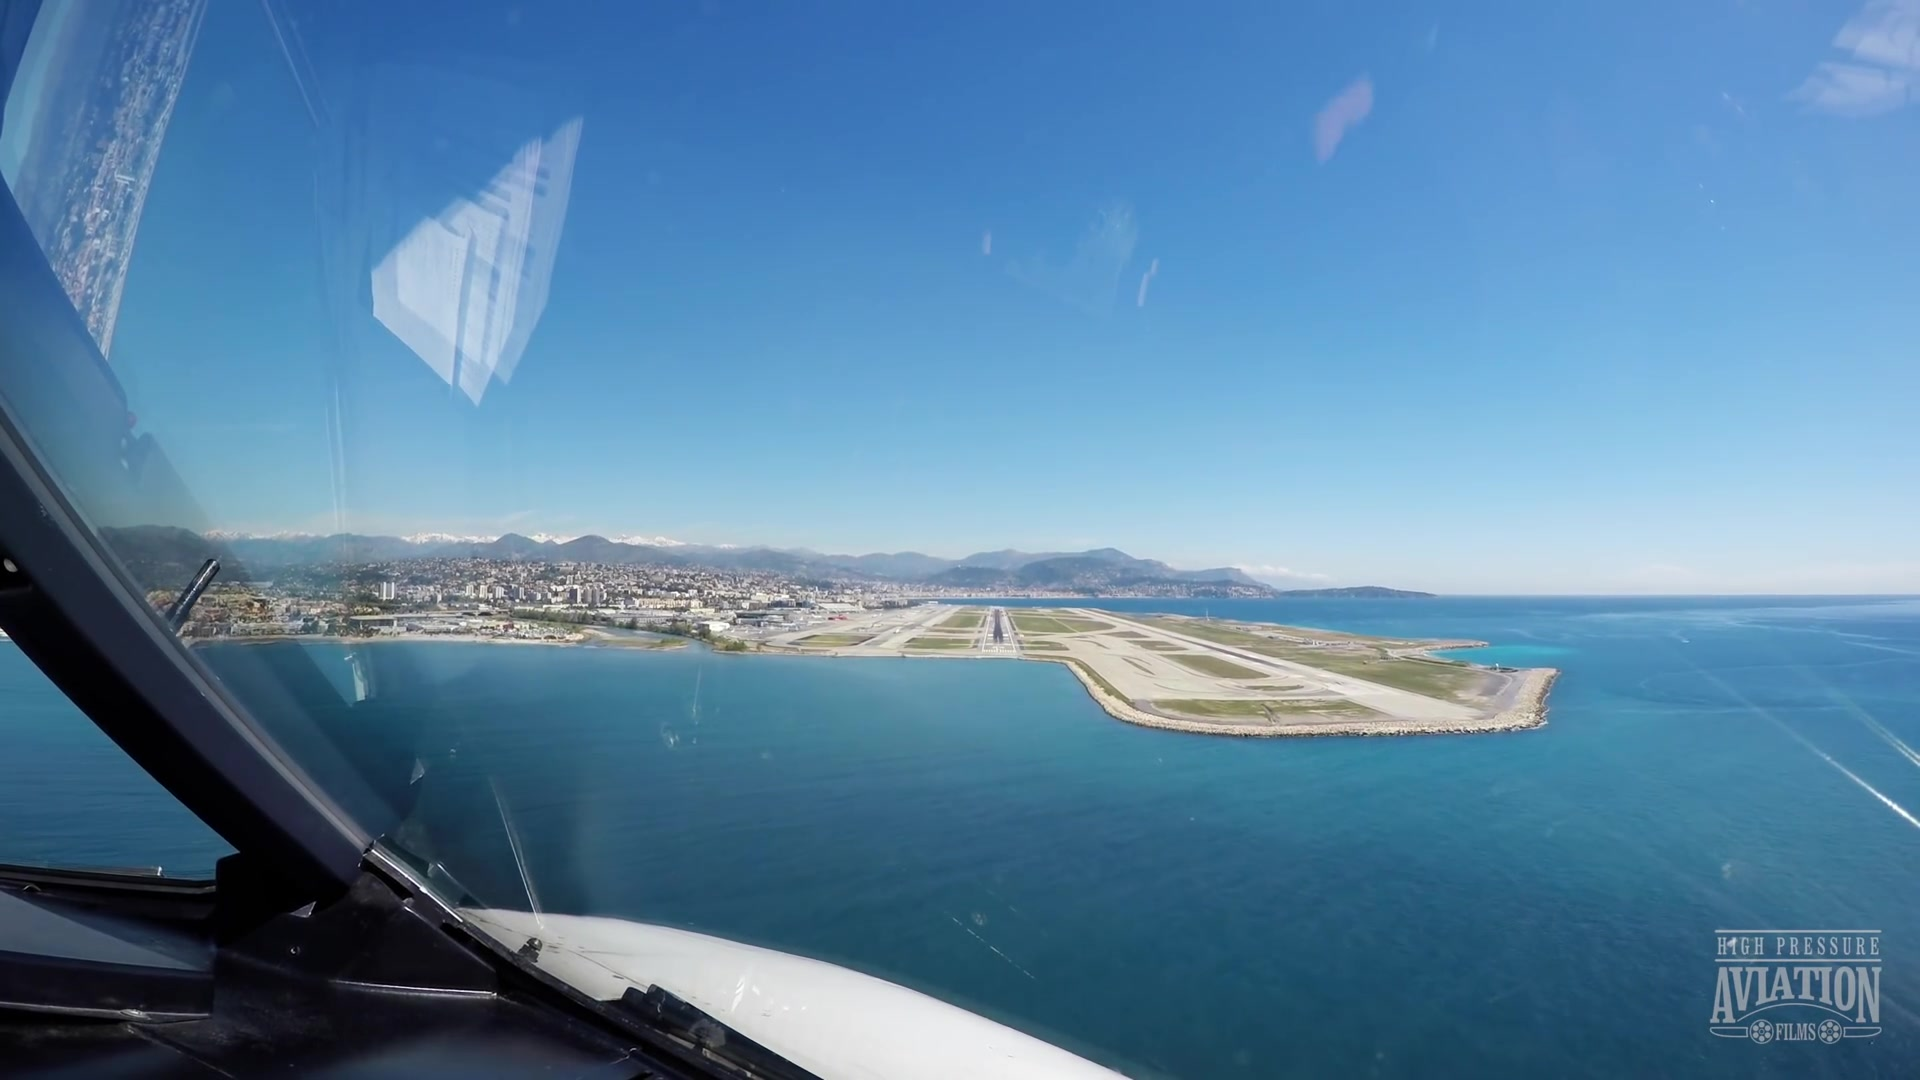entrance: (981, 647, 1015, 653)
runway: (980, 607, 1017, 657)
